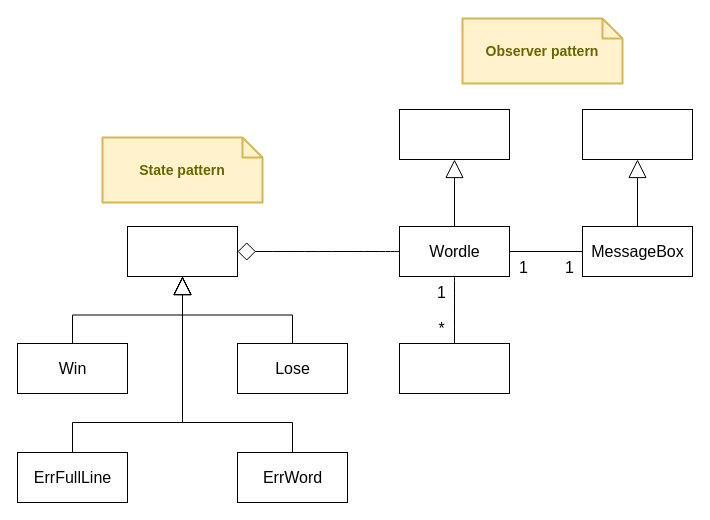
This 710x520 diagram has some shape labels left out. The shapes that lost their labels are listed below. From the top down, each one's box as (x1, y1, x2, y2) in pixels, then its label:
(398, 108, 510, 160): «interface» Subject
(582, 108, 692, 160): «interface» Observer
(126, 226, 238, 276): State
(398, 342, 510, 394): Box
